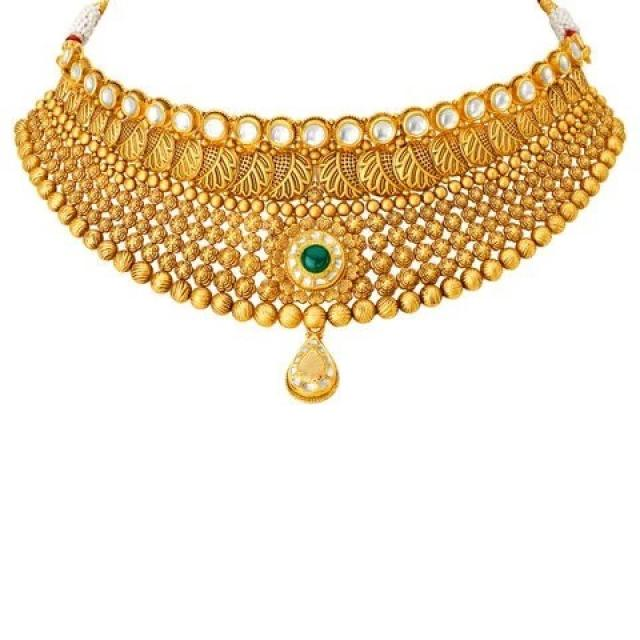missing gem: (302, 352, 323, 379)
